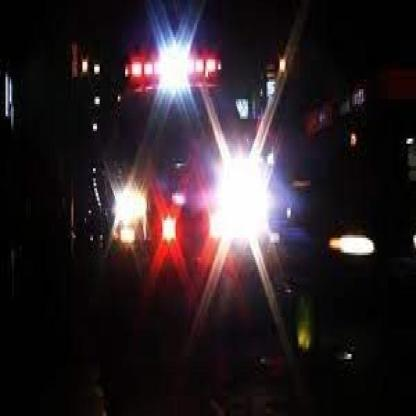priority: (96, 36, 282, 280)
